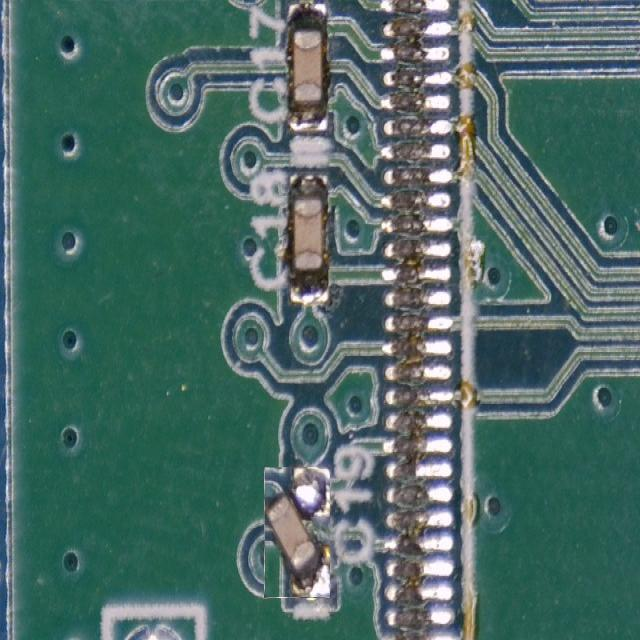Incorrect_installation: (264, 468, 330, 596)
